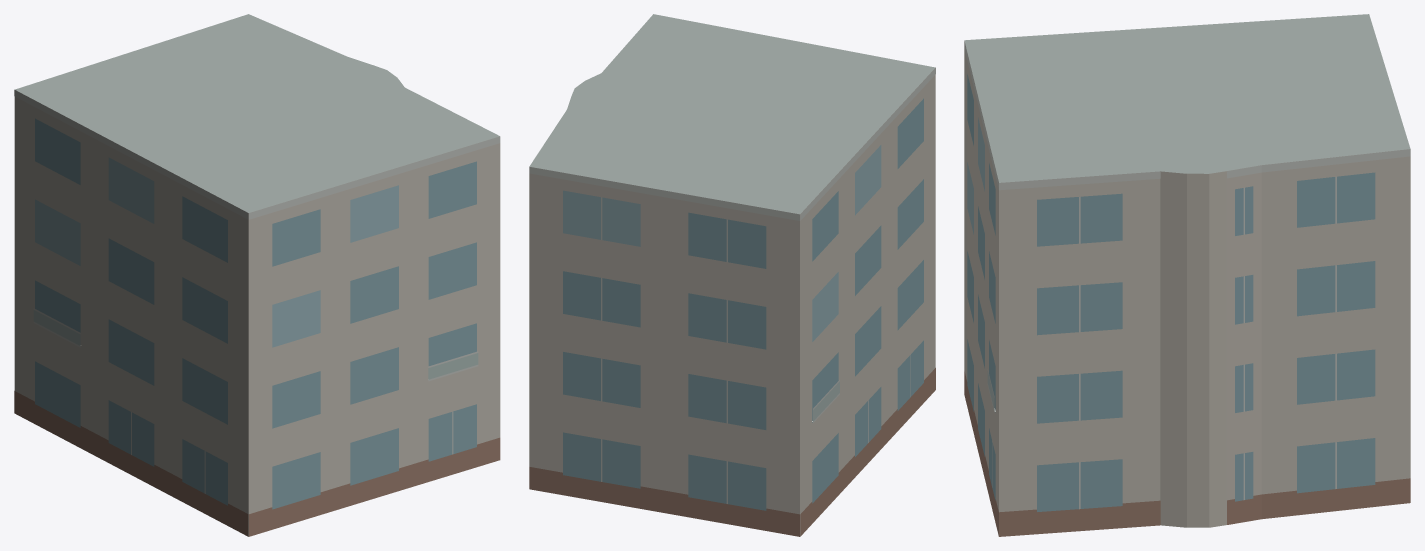
File: survey-upis-32630574.glb
3 renders of one model, left to right at view 1: azimuth 30°, elevation 25°; view 2: azimuth 150°, elevation 25°; view 3: azimuth 270°, elevation 25°, orthographic. The views are drawn at different scales.
Visible parts, largest first — view 1: survey-upis-32630574.tmp; view 2: survey-upis-32630574.tmp; view 3: survey-upis-32630574.tmp.
Boxes of the visible parts, x1,y1,x2,y2 form: survey-upis-32630574.tmp: (14,14,500,536); survey-upis-32630574.tmp: (529,14,935,536); survey-upis-32630574.tmp: (964,14,1410,536).
Bounding box in the file's own units: 11.98 × 11.7 × 13.38.
